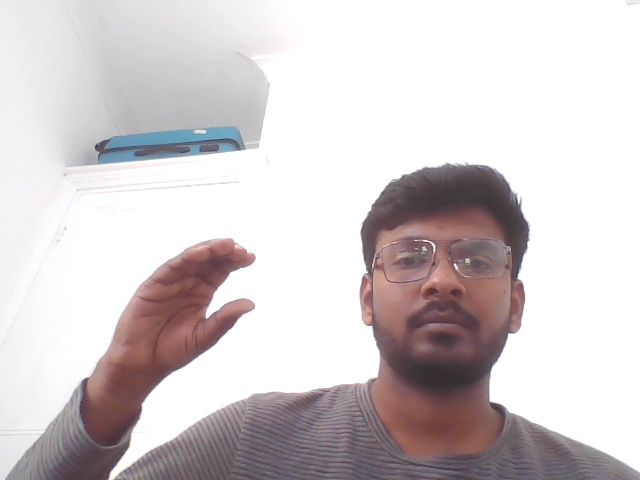No: (75, 198, 268, 433)
